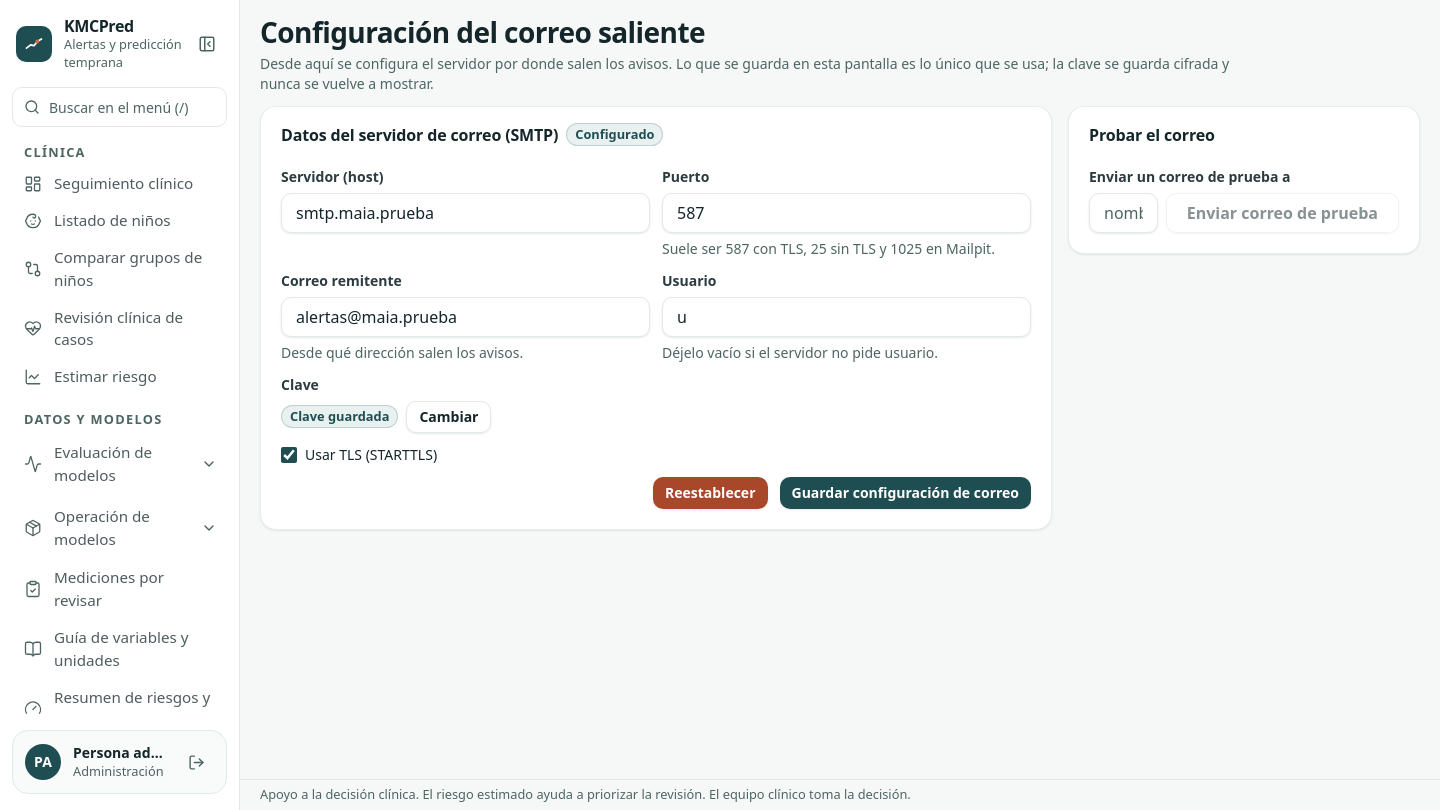
Probar el correo › al pegar varios correos se queda con el primero
Click the field labelled "Enviar un correo de prueba a" at {"x": 1123, "y": 213}, box x1=1089 y1=193 x2=1158 y2=233
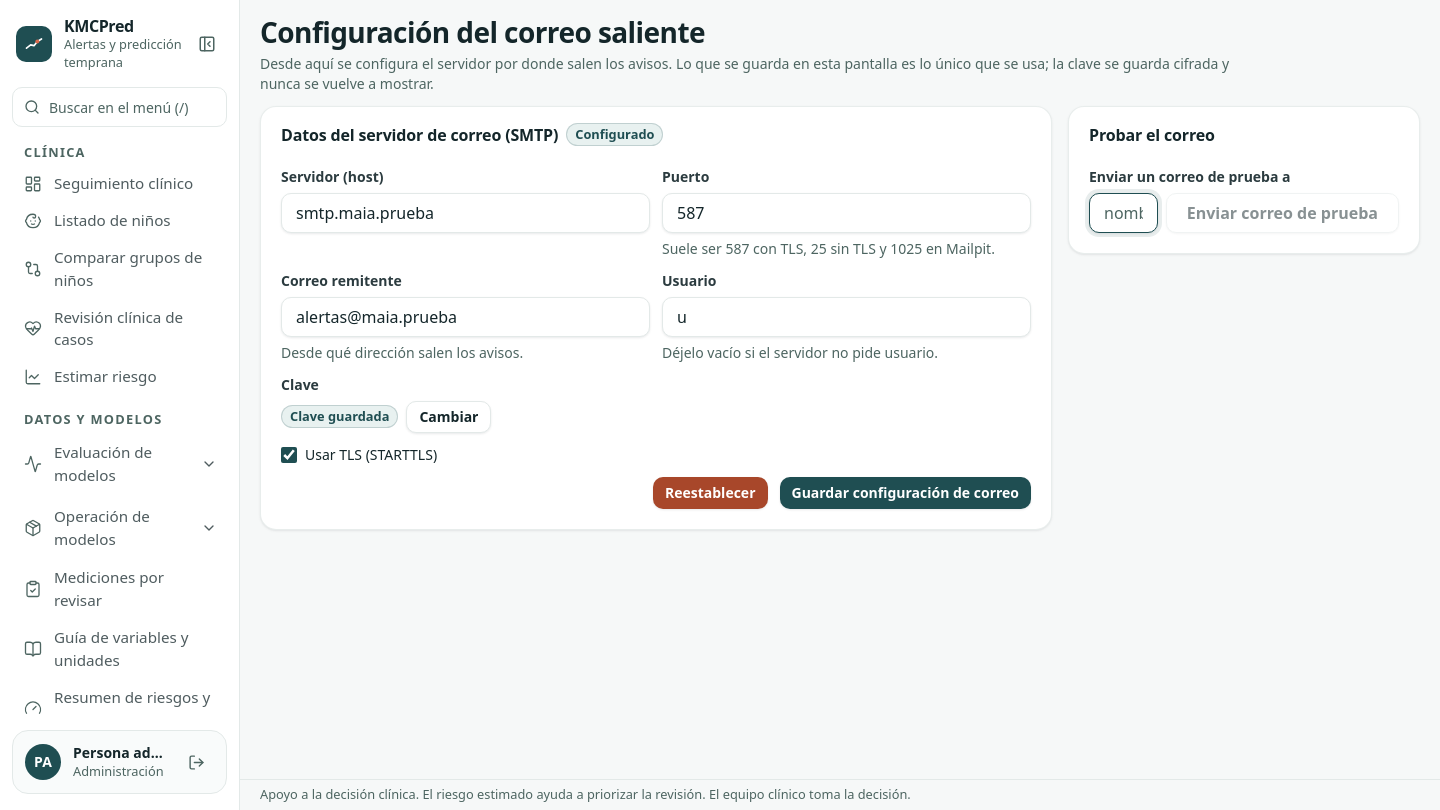
Type keys "Ana@maia.prueba, otro@maia.prueba"
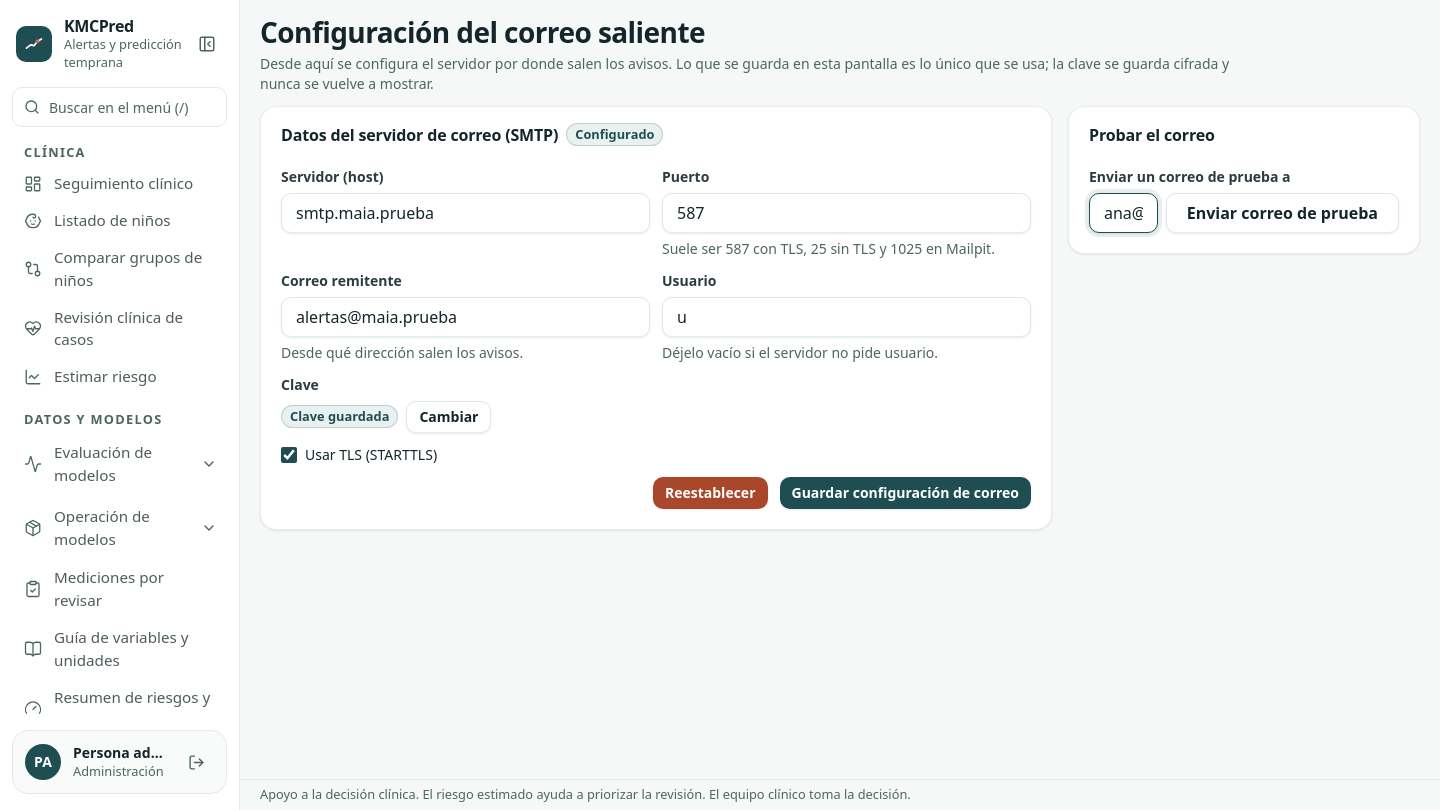
Now the field labelled "Enviar un correo de prueba a" holds "ana@maia.prueba", box x1=1089 y1=193 x2=1158 y2=233
